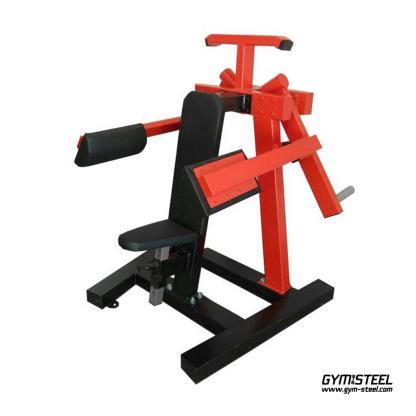lateral raises machine: (74, 33, 356, 383)
